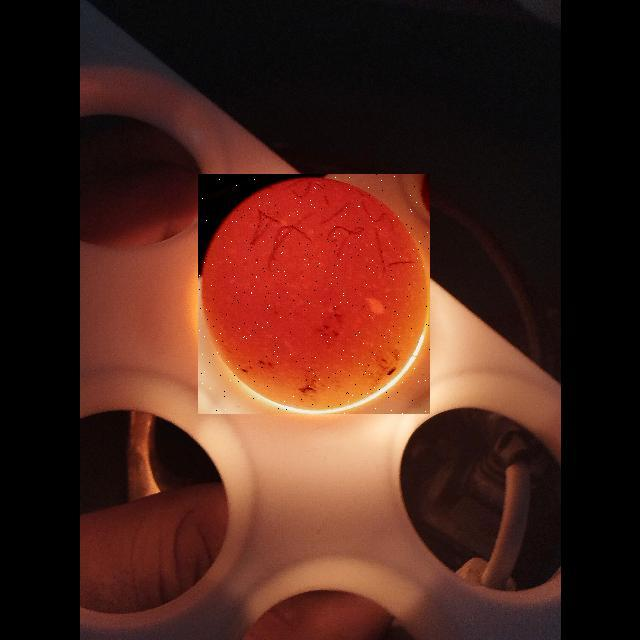Infertile: (198, 174, 430, 414)
